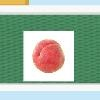raw: (32, 38, 66, 73)
